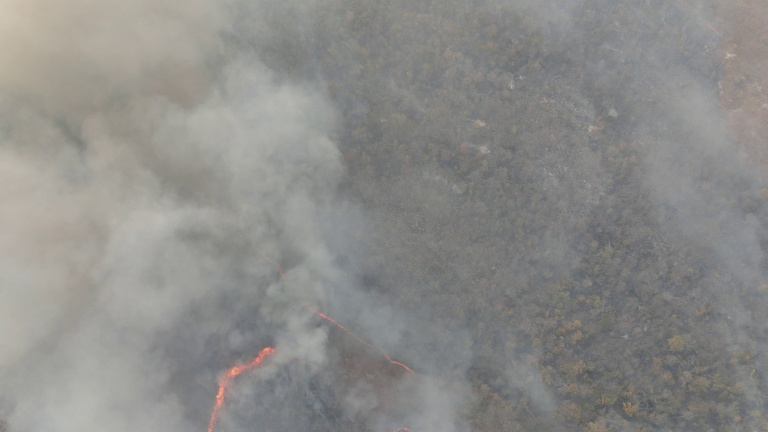fire: (207, 347, 276, 430), (246, 245, 311, 311), (309, 310, 375, 347), (376, 342, 418, 375), (391, 421, 412, 432)
smoke: (1, 84, 315, 426)
